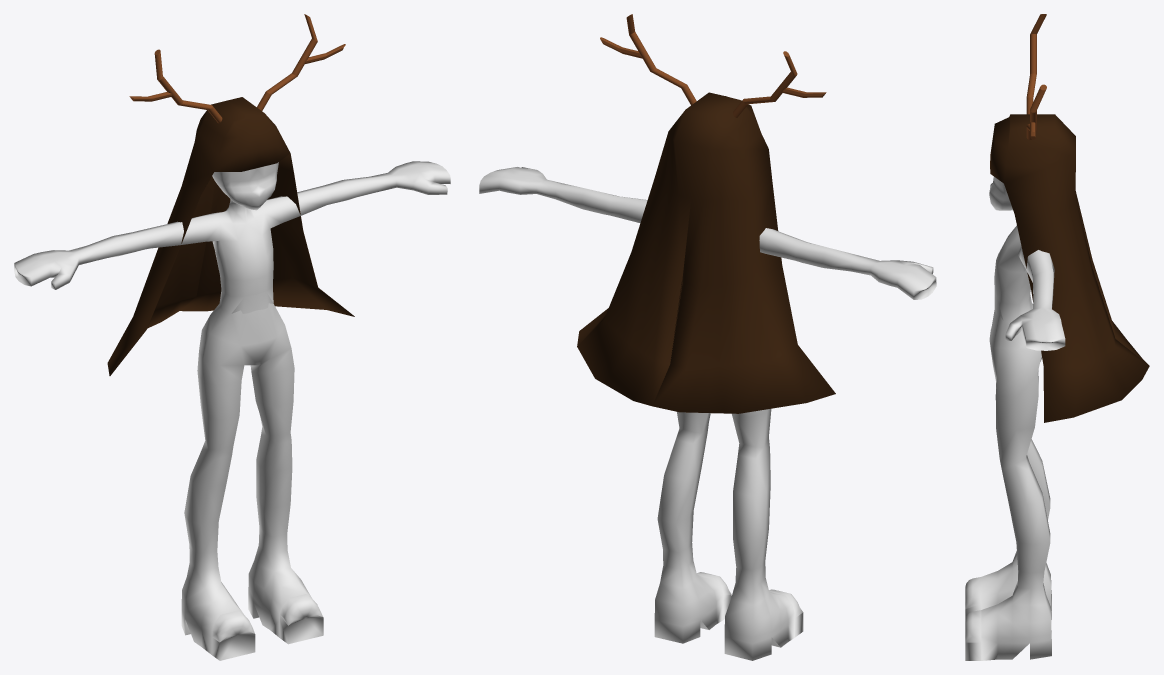
The model's file is espiritofloresta.fbx.
The picture shows the model from 3 angles, left to right: view 1: azimuth 30°, elevation 25°; view 2: azimuth 150°, elevation 25°; view 3: azimuth 270°, elevation 25°; orthographic projection. The views are drawn at different scales.
Parts seen in each view (by area): view 1: KeyframeChef_LowPoly_Base, Plane, Cylinder; view 2: Plane, KeyframeChef_LowPoly_Base, Cylinder; view 3: KeyframeChef_LowPoly_Base, Plane, Cylinder.
Part boxes in pixels (x1,y1,x2,y2): KeyframeChef_LowPoly_Base: (14, 161, 450, 660); Plane: (107, 97, 354, 375); Cylinder: (129, 14, 345, 123); Plane: (577, 92, 835, 413); KeyframeChef_LowPoly_Base: (479, 167, 936, 660); Cylinder: (600, 14, 826, 117); KeyframeChef_LowPoly_Base: (965, 176, 1065, 660); Plane: (990, 114, 1149, 422); Cylinder: (1026, 14, 1046, 139).
Bounding box in the file's own units: 144 × 191 × 54.45.
Materials: 3 (2 with a texture image).
